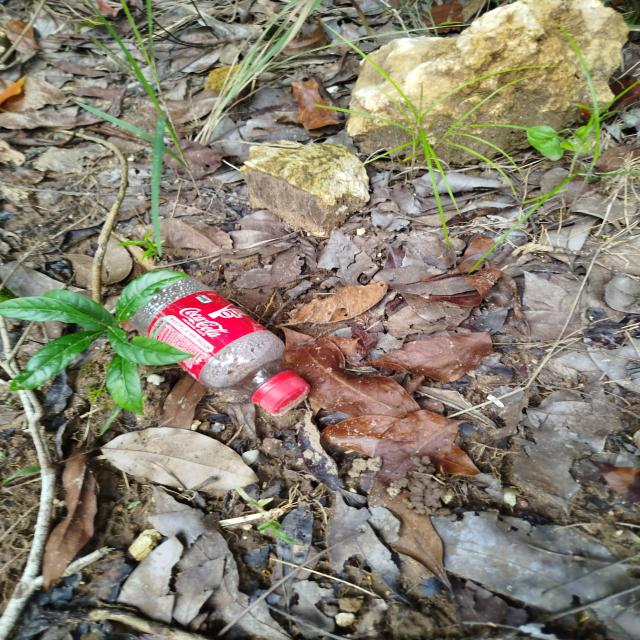plastic: (104, 258, 327, 426)
